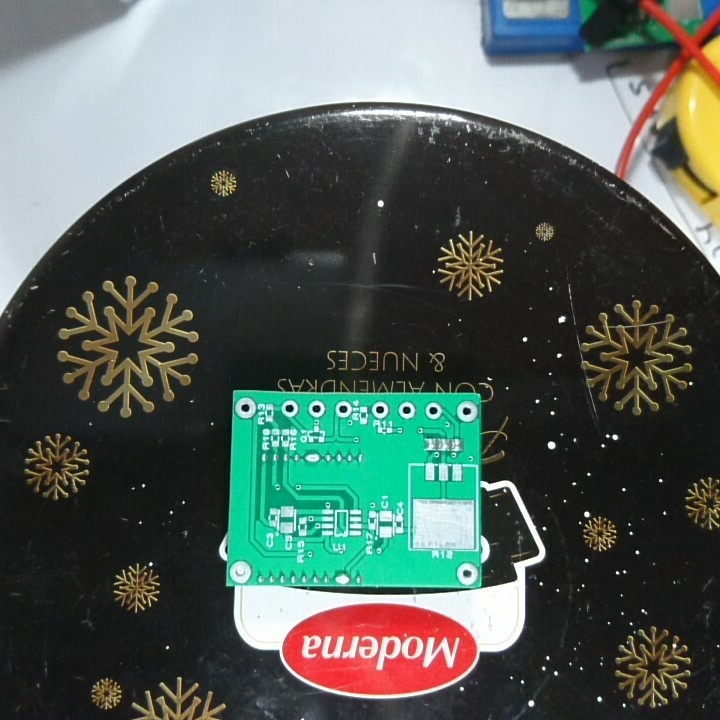F: (233, 395, 258, 421), (454, 561, 479, 586), (229, 558, 253, 584), (454, 401, 478, 424), (424, 400, 444, 423), (279, 398, 300, 419), (397, 400, 417, 422), (307, 398, 326, 420), (370, 400, 390, 420), (333, 399, 352, 419)
P: (302, 450, 321, 466), (333, 571, 351, 586)
